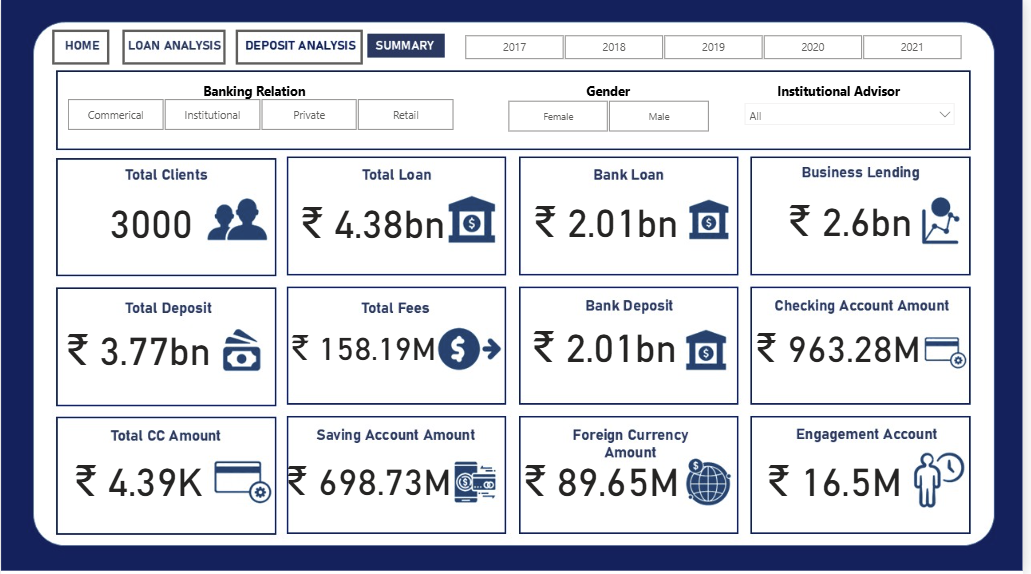

This screenshot's page, from the dashboard's own definition file:
{"tool":"powerbi","page":{"name":"Summary","canvas":[1280,720],"ordinal":3},"visuals":[{"type":"card","fields":{"Values":["Table1.Total Loans"]},"box":[352.5,227.1,227.1,95.6],"z":0},{"type":"card","fields":{"Values":["Sum(Table1.Checking Accounts)"]},"box":[920.2,392.4,256.9,81.7],"z":1},{"type":"card","fields":{"Values":["Sum(Table1.Bank Deposits)"]},"box":[635.4,386.4,239,91.6],"z":2},{"type":"card","fields":{"Values":["Sum(Table1.Business Lending)"]},"box":[940.1,223.1,247,99.6],"z":3},{"type":"card","fields":{"Values":["Sum(Table1.Bank Deposits)"]},"box":[639.3,215.1,235,117.5],"z":4},{"type":"card","fields":{"Values":["Table1.Total Fee"]},"box":[352.5,384.4,203.2,99.6],"z":5},{"type":"card","fields":{"Values":["Table1.Total Deposits"]},"box":[47.8,386.4,247,99.6],"z":6},{"type":"card","fields":{"Values":["Table1.Total cc"]},"box":[47.8,549.7,247,99.6],"z":7},{"type":"card","fields":{"Values":["Sum(Table1.Foreign Currency Account)"]},"box":[627.4,549.7,247,99.6],"z":8},{"type":"card","fields":{"Values":["Table1.enganement length"]},"box":[920.2,549.7,247,99.6],"z":9},{"type":"card","fields":{"Values":["Sum(Table1.Saving Accounts)"]},"box":[342.6,549.7,237,99.6],"z":10},{"type":"card","fields":{"Values":["CountNonNull(Table1.Name)"]},"box":[63.7,225.1,247,99.6],"z":11},{"type":"slicer","fields":{"Values":["Table1.BRId"]},"box":[58.9,117.7,532.9,52.5],"z":12},{"type":"slicer","fields":{"Values":["Table1.GenderId"]},"box":[610.8,119.3,300.6,52.5],"z":13},{"type":"slicer","fields":{"Values":["Table1.IAId"]},"box":[922.2,119.5,282.8,51.8],"z":14},{"type":"textbox","box":[685.2,97.6,149.4,37.8],"z":15},{"type":"textbox","box":[205.2,97,222.7,38.2],"z":17},{"type":"textbox","box":[912.2,97.6,274.9,47.8],"z":18},{"type":"slicer","fields":{"Values":["Table1.Joining Year"]},"box":[555.7,37.8,671.2,43.8],"z":19},{"type":"actionButton","title":"HOME","box":[294.8,37.8,159.3,43.8],"z":20},{"type":"actionButton","title":"HOME","box":[151.4,37.8,129.5,43.8],"z":21},{"type":"actionButton","title":"HOME","box":[63.7,37.8,71.7,43.8],"z":22}]}

Visuals, with their boxes in screenshot pixels (x1, y1, x2, y2), scaled from the page's 1280x720 canvas onto the 1031x574 screenshot:
card - Table1.Total Loans: 284, 181, 467, 257
card - Sum(Table1.Checking Accounts): 741, 313, 948, 378
card - Sum(Table1.Bank Deposits): 512, 308, 704, 381
card - Sum(Table1.Business Lending): 757, 178, 956, 257
card - Sum(Table1.Bank Deposits): 515, 171, 704, 265
card - Table1.Total Fee: 284, 306, 448, 386
card - Table1.Total Deposits: 39, 308, 237, 387
card - Table1.Total cc: 39, 438, 237, 518
card - Sum(Table1.Foreign Currency Account): 505, 438, 704, 518
card - Table1.enganement length: 741, 438, 940, 518
card - Sum(Table1.Saving Accounts): 276, 438, 467, 518
card - CountNonNull(Table1.Name): 51, 179, 250, 259
slicer - Table1.BRId: 47, 94, 477, 136
slicer - Table1.GenderId: 492, 95, 734, 137
slicer - Table1.IAId: 743, 95, 971, 137
textbox: 552, 78, 672, 108
textbox: 165, 77, 345, 108
textbox: 735, 78, 956, 116
slicer - Table1.Joining Year: 448, 30, 988, 65
"HOME" actionButton: 237, 30, 366, 65
"HOME" actionButton: 122, 30, 226, 65
"HOME" actionButton: 51, 30, 109, 65
